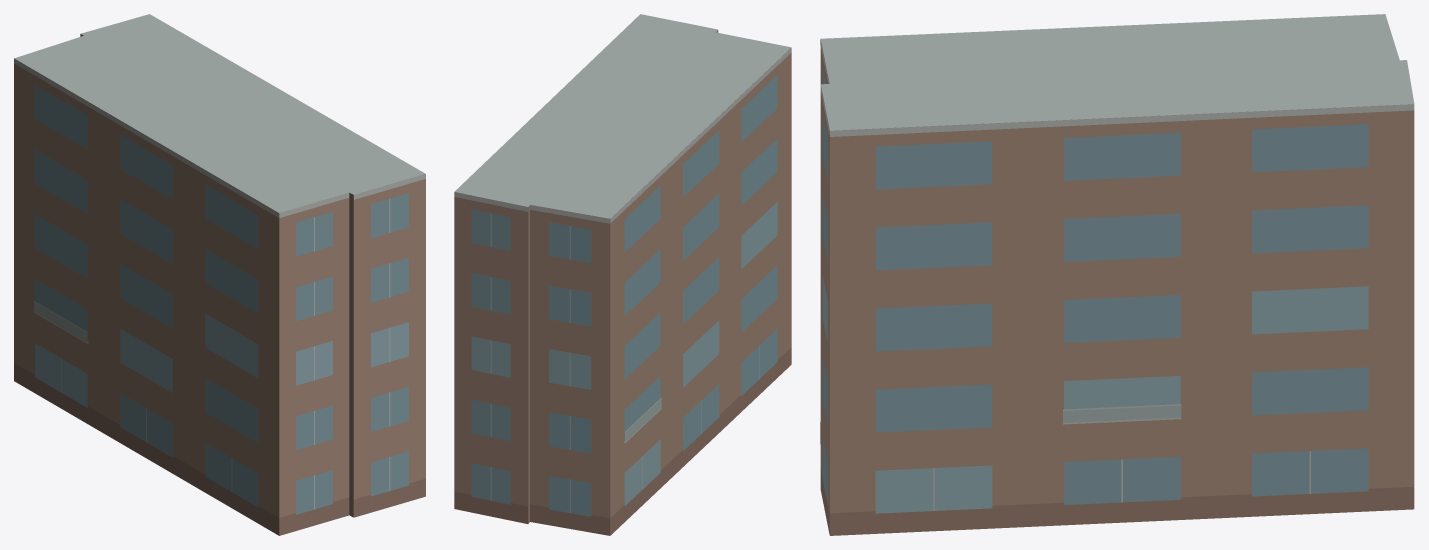
Rendered from survey-upis-32743535.glb.
The picture shows the model from 3 angles, left to right: view 1: azimuth 30°, elevation 25°; view 2: azimuth 150°, elevation 25°; view 3: azimuth 270°, elevation 25°; orthographic projection. The views are drawn at different scales.
Parts seen in each view (by area): view 1: survey-upis-32743535.tmp; view 2: survey-upis-32743535.tmp; view 3: survey-upis-32743535.tmp.
Part boxes in pixels (x1,y1,x2,y2): survey-upis-32743535.tmp: (14, 14, 425, 535); survey-upis-32743535.tmp: (454, 14, 791, 535); survey-upis-32743535.tmp: (820, 14, 1414, 535).
Bounding box in the file's own units: 9.71 × 15.7 × 20.87.
